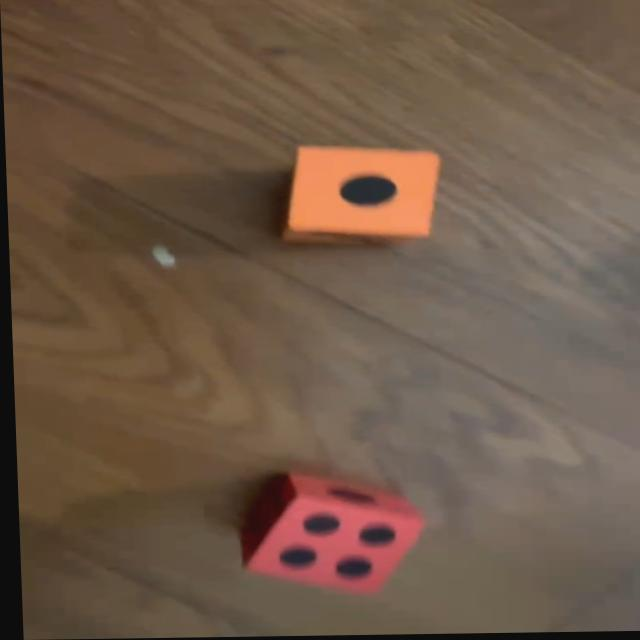red_block: (233, 471, 423, 604)
